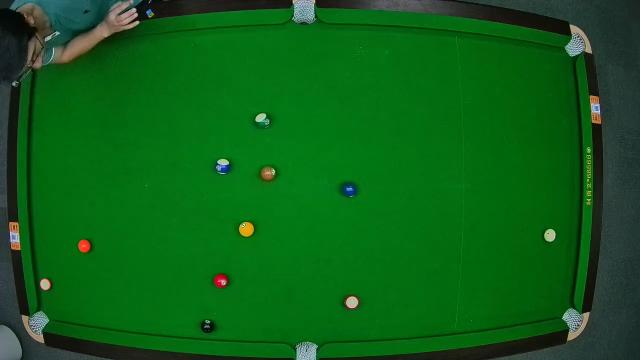bag2: (294, 0, 316, 24)
bag3: (566, 32, 586, 56)
bag4: (28, 312, 48, 334)
bag5: (295, 342, 319, 360)
bag6: (562, 308, 582, 330)
ball0: (544, 228, 556, 243)
ball1: (238, 221, 254, 236)
ball10: (216, 160, 230, 174)
ball11: (344, 294, 360, 310)
ball12: (38, 279, 52, 291)
ball14: (256, 112, 272, 128)
ball2: (342, 182, 358, 198)
ball3: (214, 274, 228, 288)
ball5: (78, 240, 90, 254)
ball7: (262, 165, 276, 181)
